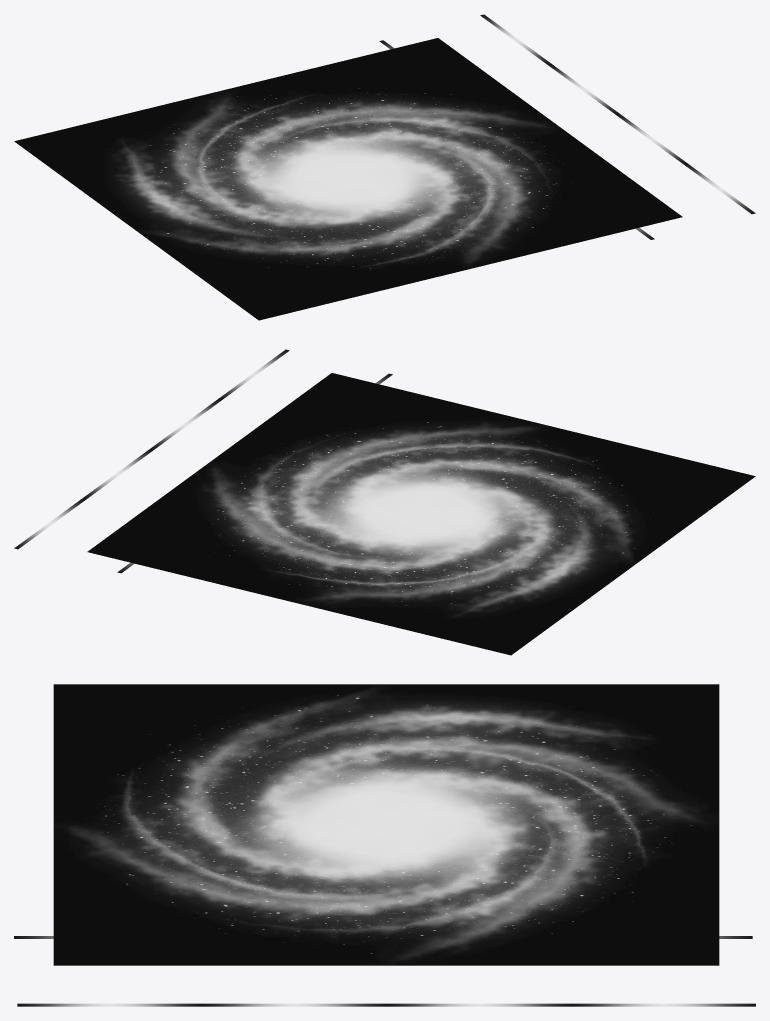
The model's file is Quad.glb.
3 renders of one model, top to bottom at view 1: azimuth 30°, elevation 25°; view 2: azimuth 150°, elevation 25°; view 3: azimuth 270°, elevation 25°, orthographic. The views are drawn at different scales.
Parts seen in each view (by area): view 1: r__2__12; view 2: r__2__12; view 3: r__2__12, Quad__1_, Quad, Quad__2_, Quad__3_.
Part boxes in pixels (x1=…): r__2__12: x1=14, y1=38, x2=682, y2=320; r__2__12: x1=87, y1=373, x2=755, y2=655; r__2__12: x1=53, y1=684, x2=719, y2=965; Quad__1_: x1=386, y1=1003, x2=571, y2=1006; Quad: x1=571, y1=1003, x2=755, y2=1006; Quad__2_: x1=202, y1=1003, x2=386, y2=1006; Quad__3_: x1=17, y1=1003, x2=201, y2=1006.
Size of the model in its own units: 39.57 by 0.079 by 38.68.
4 materials, 4 textured.
